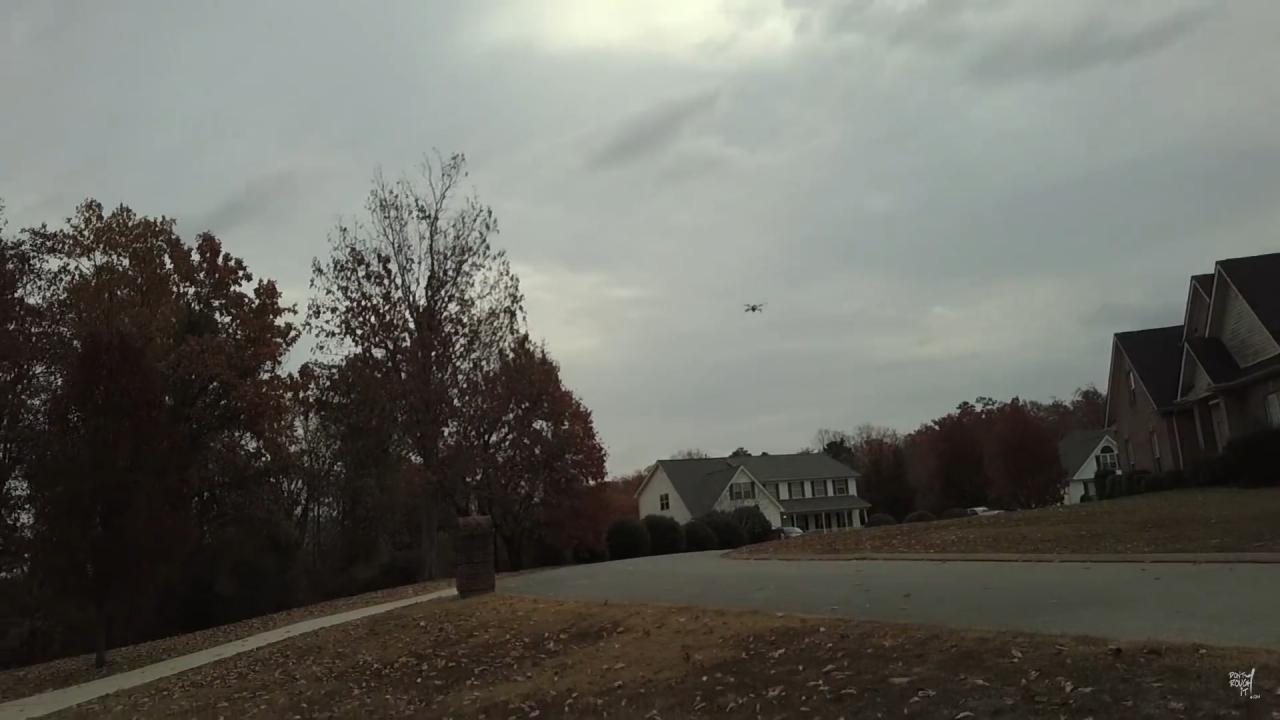Drone: (733, 292, 773, 322)
